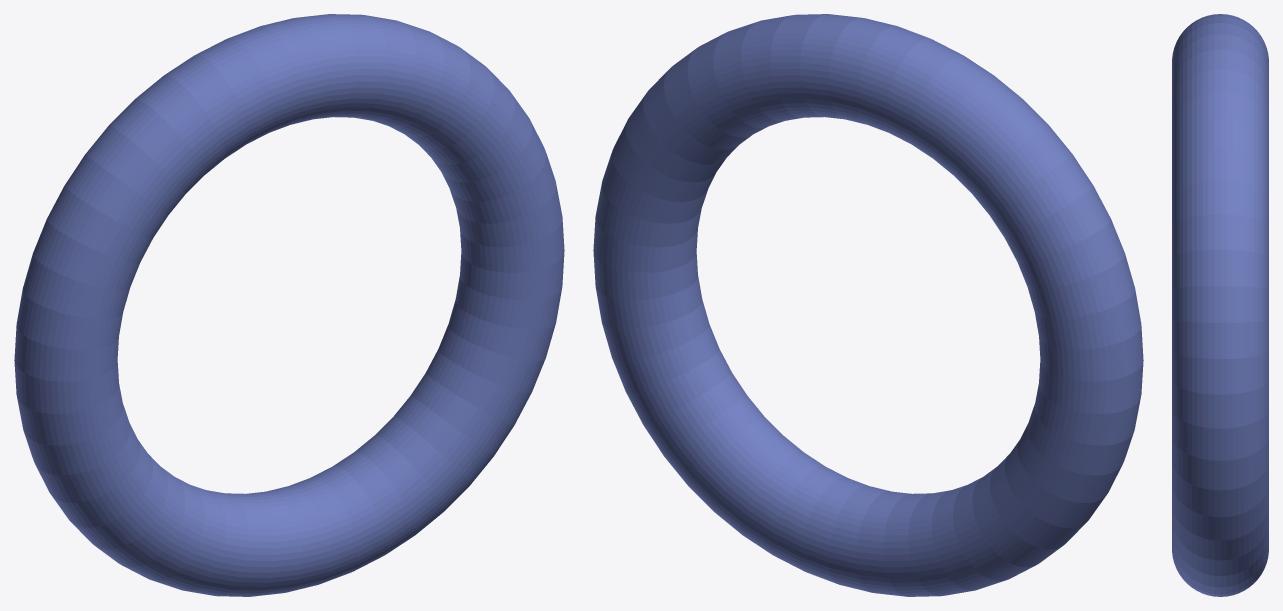
3 views of the same model, side by side, from view 1: azimuth 30°, elevation 25°; view 2: azimuth 150°, elevation 25°; view 3: azimuth 270°, elevation 25° (orthographic). The views are drawn at different scales.
Visible parts, largest first — view 1: world; view 2: world; view 3: world.
Part boxes in pixels (<box>): world: <box>14,14,564,596</box>; world: <box>593,14,1143,596</box>; world: <box>1172,14,1268,596</box>.
Bounding box in the file's own units: 15.2 × 15.17 × 2.53.
